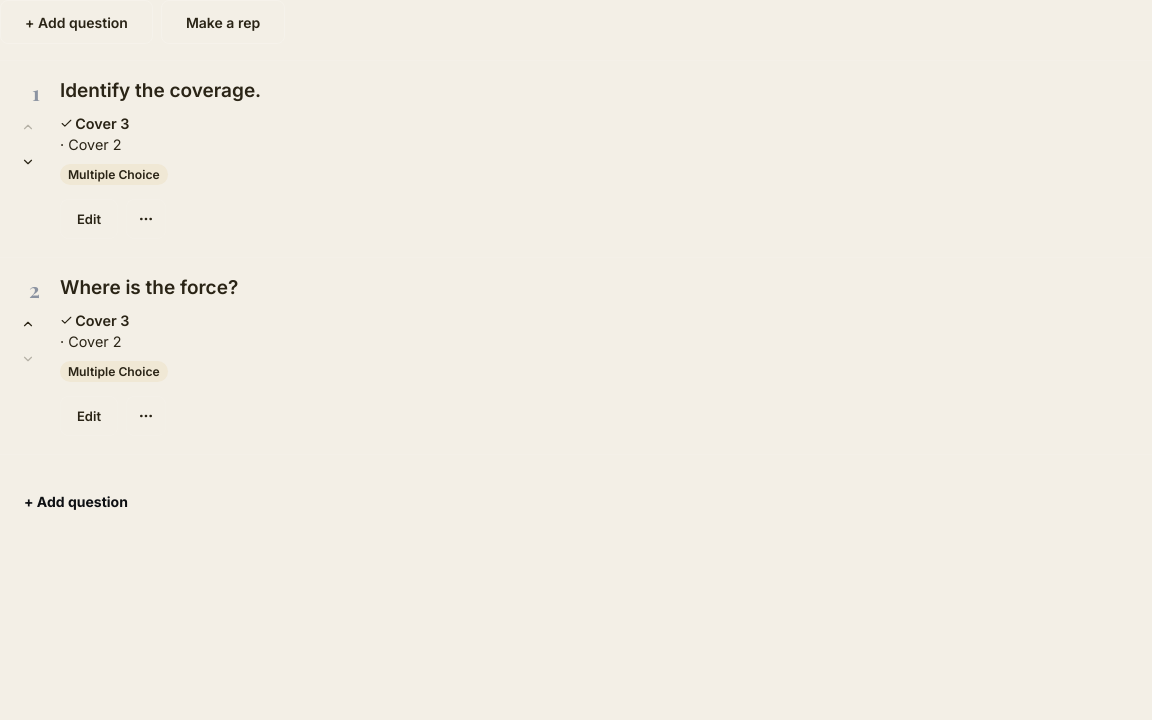
Test: Teach this, from the quiz editor › opens on that question and the arrows walk the rest of the quiz
Click the button named "More actions for question 2": (146, 416) x1=126 y1=396 x2=166 y2=436
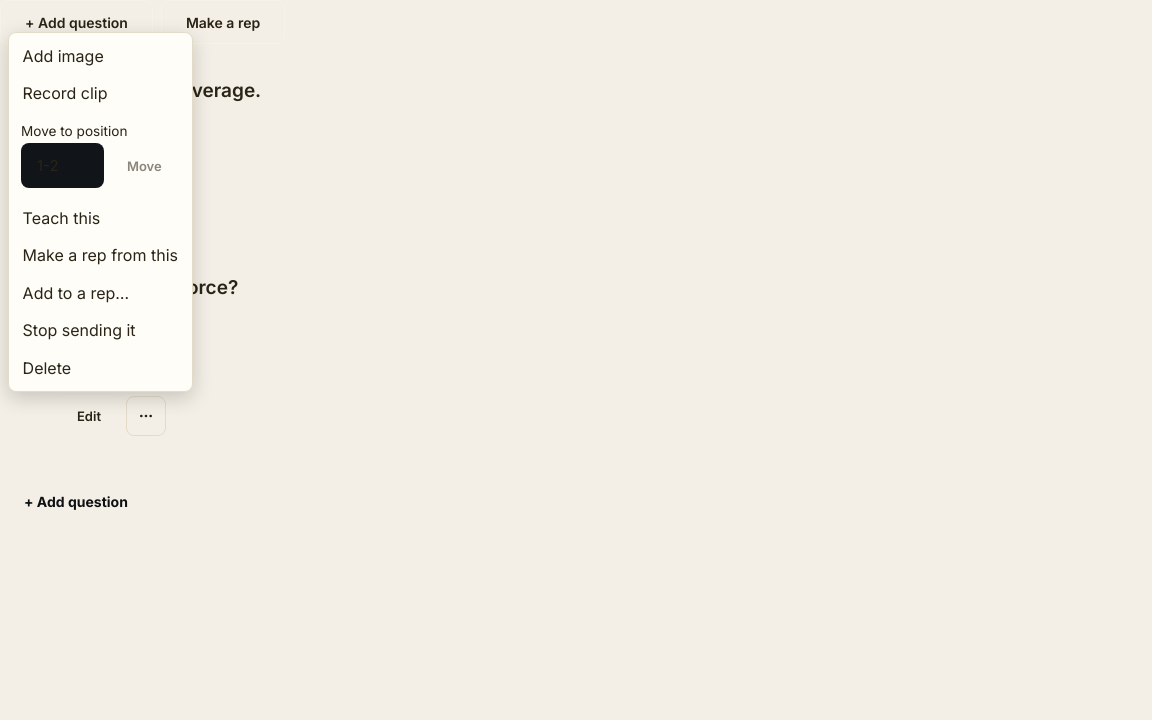
Click the menu item "Teach this": (100, 218) x1=13 y1=199 x2=188 y2=236
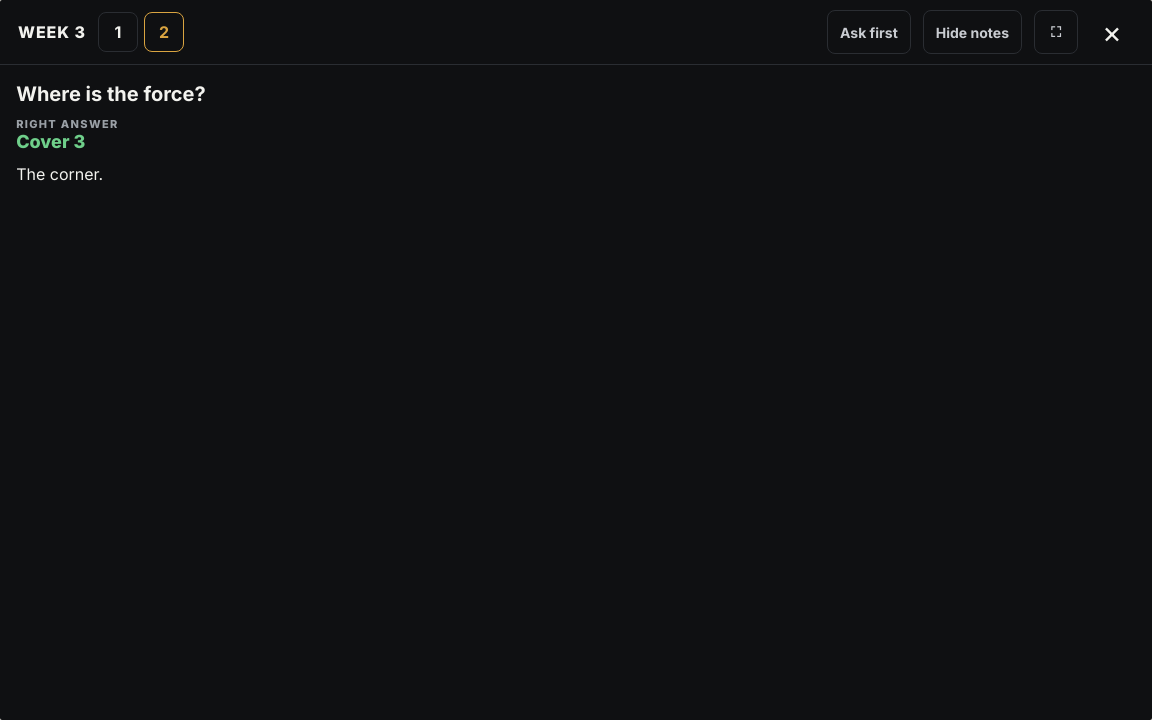
Check: the text "Where is the force?" is shown, box x1=16 y1=82 x2=206 y2=106
Press ArrowLeft in the dialog named "Teach Week 3"
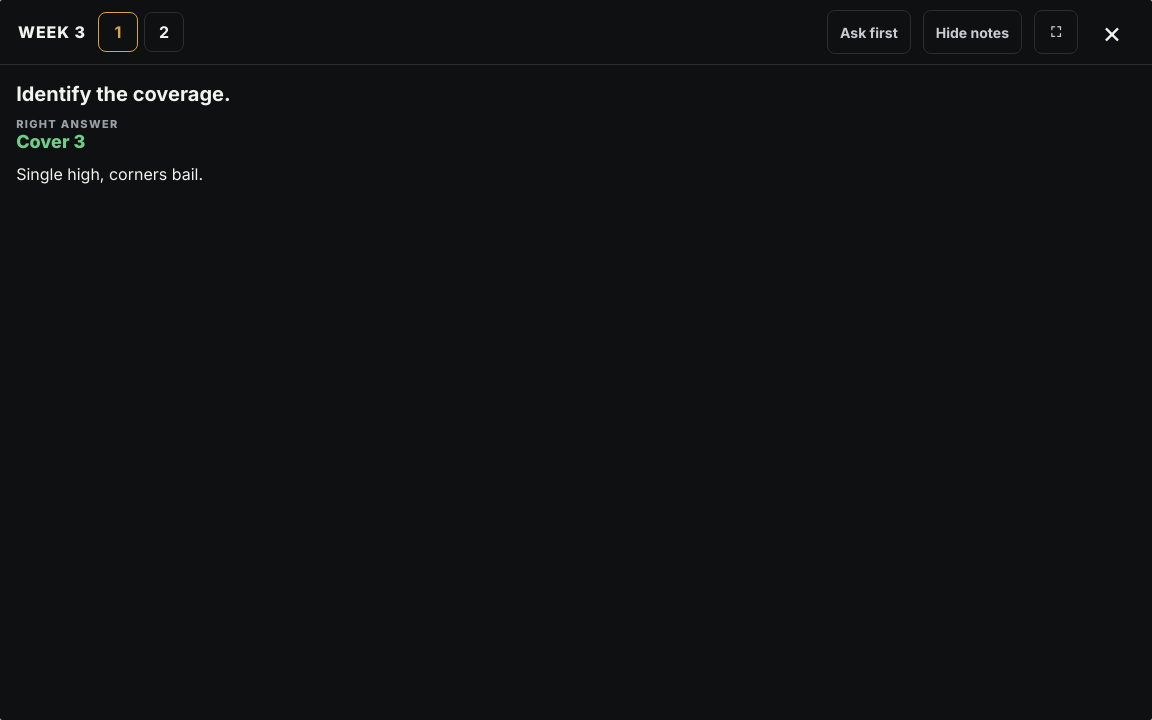
Check: the text "Identify the coverage." is shown, box x1=16 y1=82 x2=231 y2=106
